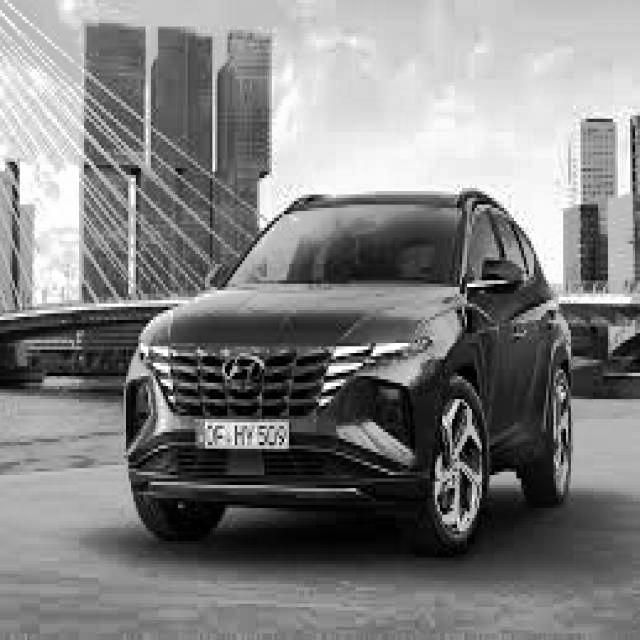Car: (126, 117, 594, 559)
